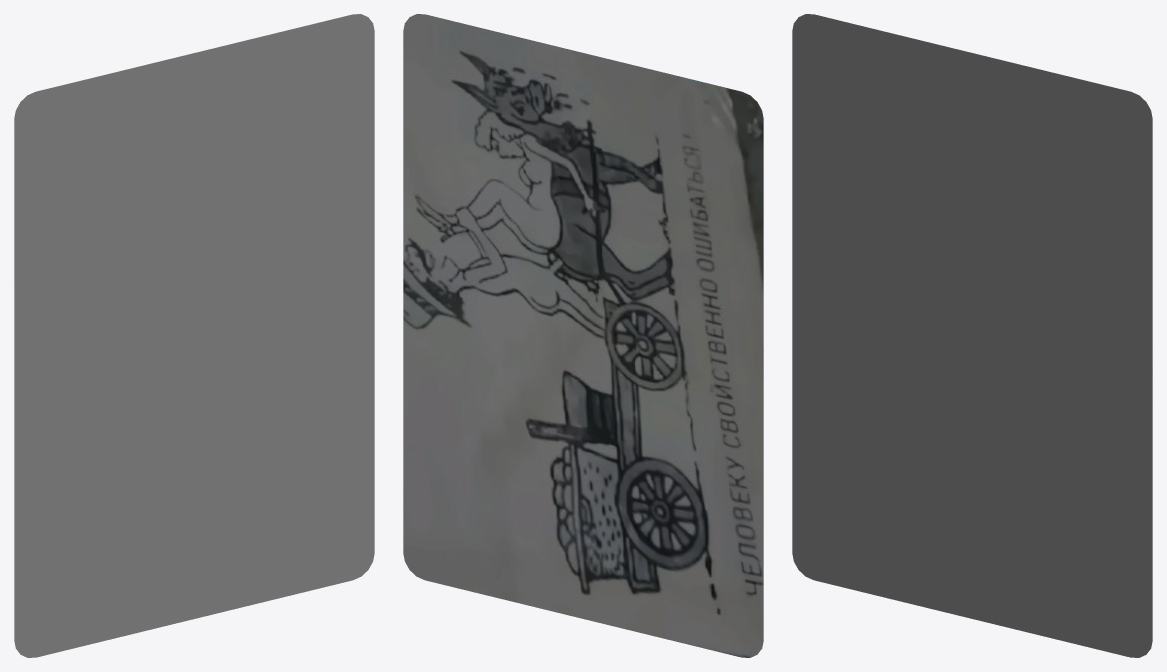
The model's file is Card.fbx.
3 renders of one model, left to right at view 1: azimuth 30°, elevation 25°; view 2: azimuth 150°, elevation 25°; view 3: azimuth 330°, elevation 25°, orthographic.
Visible parts, largest first — view 1: Card; view 2: Card; view 3: Card.
Boxes of the visible parts, box(x1,y1,x2,y2) form: Card: box(14, 14, 374, 657); Card: box(403, 14, 763, 657); Card: box(792, 14, 1152, 657).
Size of the model in its own units: 12 by 18 by 0.01.
